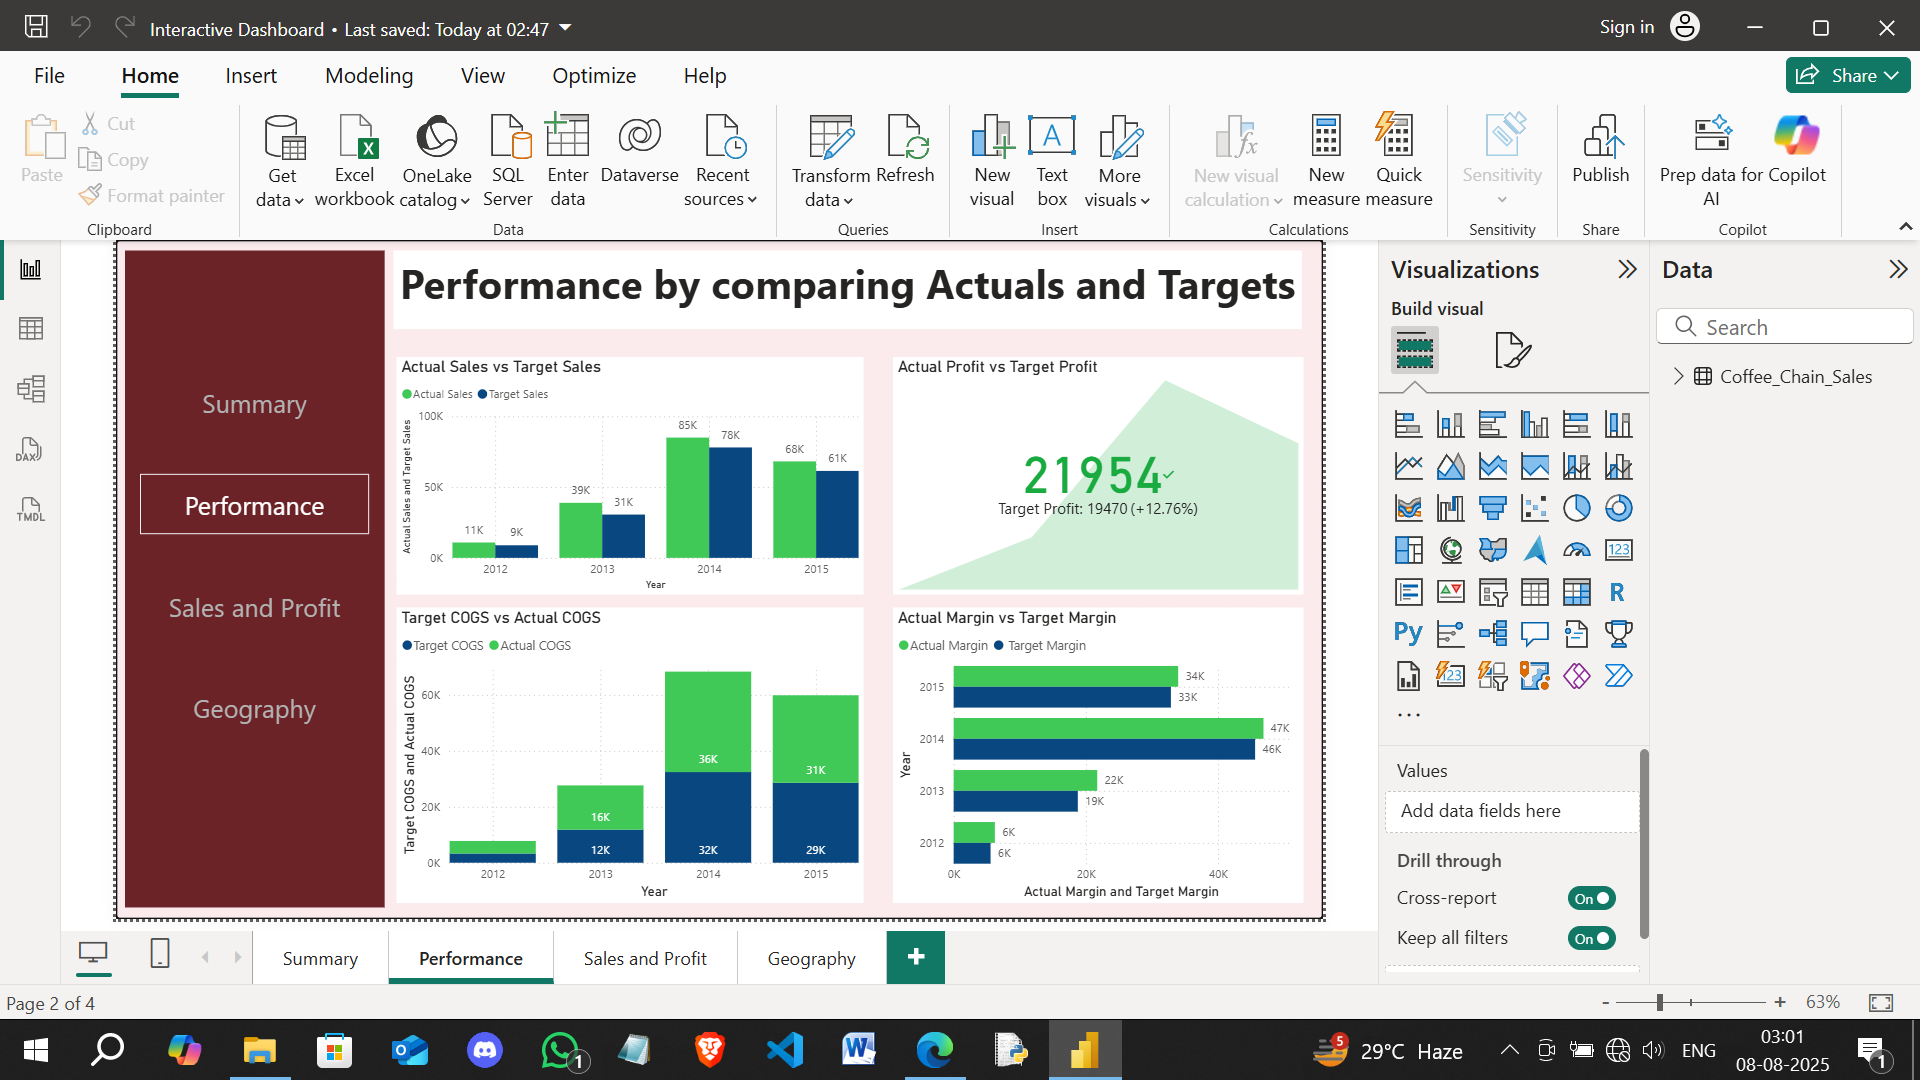

The dashboard page shown, as its layout file describes it:
{"tool":"powerbi","page":{"name":"Performance","canvas":[1280,720],"ordinal":1},"visuals":[{"type":"textbox","box":[9.5,11.1,275.2,696.7],"z":0},{"type":"textbox","box":[295,11.7,963.3,83.3],"z":1000},{"type":"clusteredColumnChart","title":"Actual Sales vs Target Sales","fields":{"Category":["Coffee_Chain_Sales.Year"],"Y":["Sum(Coffee_Chain_Sales.Sales)","Sum(Coffee_Chain_Sales.Target_sales )"]},"box":[296.7,123.3,495,251.7],"z":2000},{"type":"clusteredBarChart","title":"Actual Margin vs Target Margin","fields":{"Category":["Coffee_Chain_Sales.Year"],"Y":["Sum(Coffee_Chain_Sales.Margin)","Sum(Coffee_Chain_Sales.Target_margin)"]},"box":[823.3,390,435,313.3],"z":3000},{"type":"columnChart","title":"Target COGS vs Actual COGS","fields":{"Category":["Coffee_Chain_Sales.Year"],"Y":["Sum(Coffee_Chain_Sales.Target_cogs)","Sum(Coffee_Chain_Sales.Cogs)"]},"box":[296.7,390,495,313.3],"z":4000},{"type":"kpi","title":"Actual Profit vs Target Profit","fields":{"Goal":["Coffee_Chain_Sales.Total Target"],"Indicator":["Coffee_Chain_Sales.Total Profit"],"TrendLine":["Coffee_Chain_Sales.Year"]},"box":[823.3,123.3,435,251.7],"z":5000},{"type":"pageNavigator","box":[25.4,140,243.4,388.1],"z":10001}]}

Visuals, with their boxes on the page's 1280x720 design canvas (x1, y1, x2, y2). These are canvas units, not pixel positions in the 1920x1080 screenshot, which may show the page scaled, cropped or inside an application window:
textbox: Rect(10, 11, 285, 708)
textbox: Rect(295, 12, 1258, 95)
"Actual Sales vs Target Sales" clusteredColumnChart: Rect(297, 123, 792, 375)
"Actual Margin vs Target Margin" clusteredBarChart: Rect(823, 390, 1258, 703)
"Target COGS vs Actual COGS" columnChart: Rect(297, 390, 792, 703)
"Actual Profit vs Target Profit" kpi: Rect(823, 123, 1258, 375)
pageNavigator: Rect(25, 140, 269, 528)
